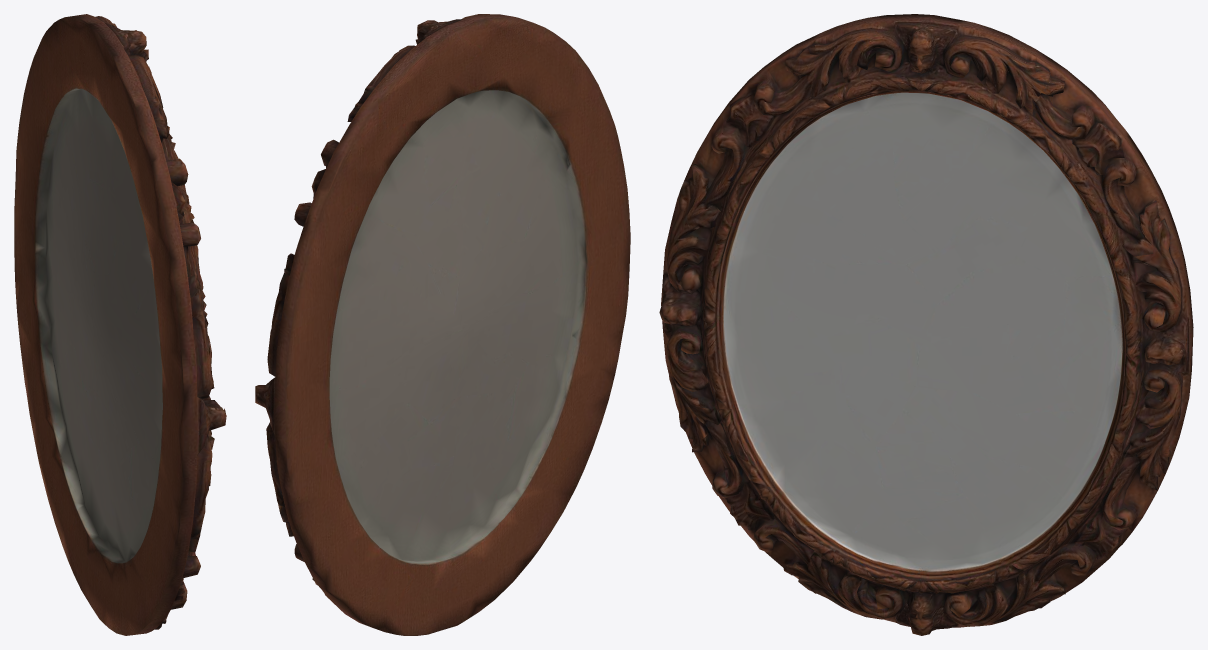
The model's file is b_mirror.glb.
The picture shows the model from 3 angles, left to right: view 1: azimuth 30°, elevation 25°; view 2: azimuth 150°, elevation 25°; view 3: azimuth 270°, elevation 25°; orthographic projection. The views are drawn at different scales.
Visible parts, largest first — view 1: tripo_node_d555fdbd-d650-4090-b6ce-d010254727d5; view 2: tripo_node_d555fdbd-d650-4090-b6ce-d010254727d5; view 3: tripo_node_d555fdbd-d650-4090-b6ce-d010254727d5.
Part boxes in pixels (box(x1,y1,x2,y2)): tripo_node_d555fdbd-d650-4090-b6ce-d010254727d5: box(14, 14, 226, 635); tripo_node_d555fdbd-d650-4090-b6ce-d010254727d5: box(255, 14, 630, 635); tripo_node_d555fdbd-d650-4090-b6ce-d010254727d5: box(659, 14, 1193, 635).
Size of the model in its own units: 0.2213 by 1 by 0.795.
1 material, 1 textured.
